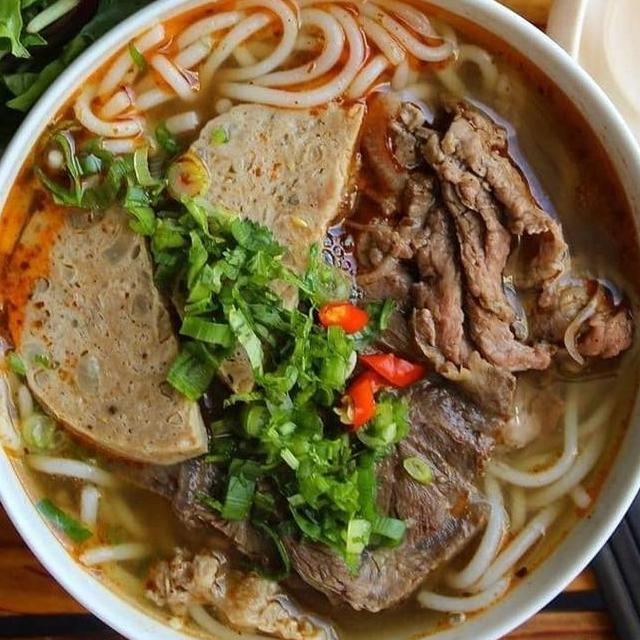bun: (37, 0, 504, 184), (408, 359, 637, 622), (0, 325, 171, 603)
bun bo: (0, 15, 640, 640)
thit bo: (270, 343, 569, 618), (429, 83, 640, 370), (380, 98, 564, 380), (355, 134, 529, 423), (109, 390, 312, 566)
